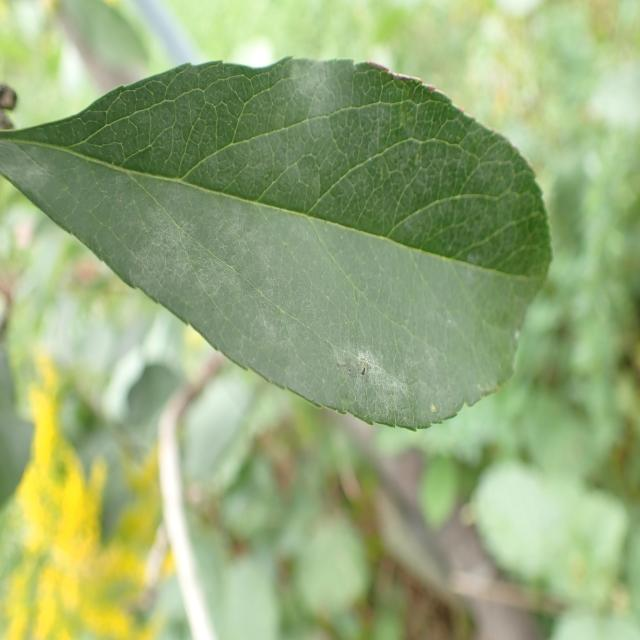Powdery_mildew: (46, 55, 556, 428)
